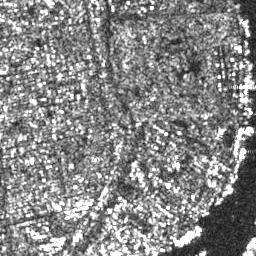ship: (175, 225, 201, 247), (241, 17, 253, 38), (239, 146, 248, 164), (222, 186, 233, 197), (216, 195, 224, 205), (234, 163, 241, 174)
